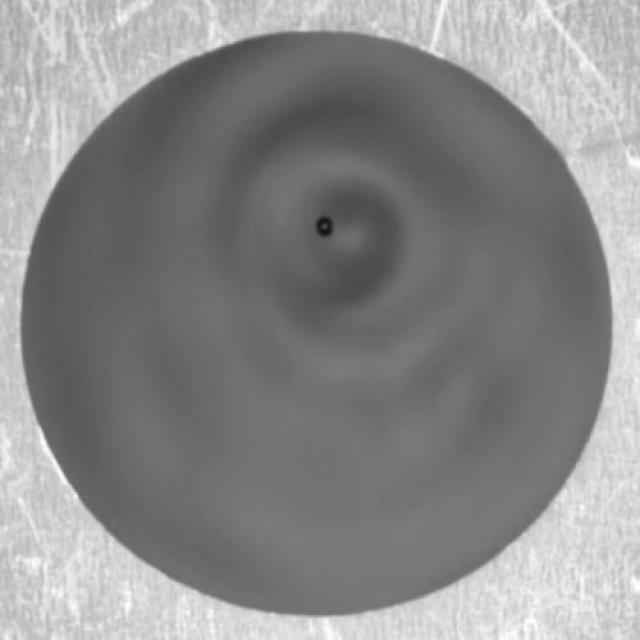droplet: (313, 213, 338, 241)
